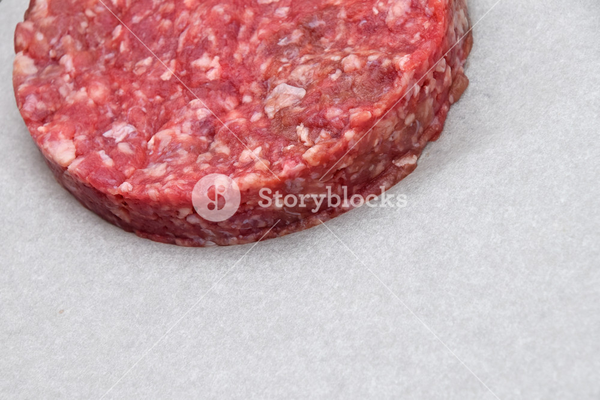burger_raw: (14, 1, 468, 249)
